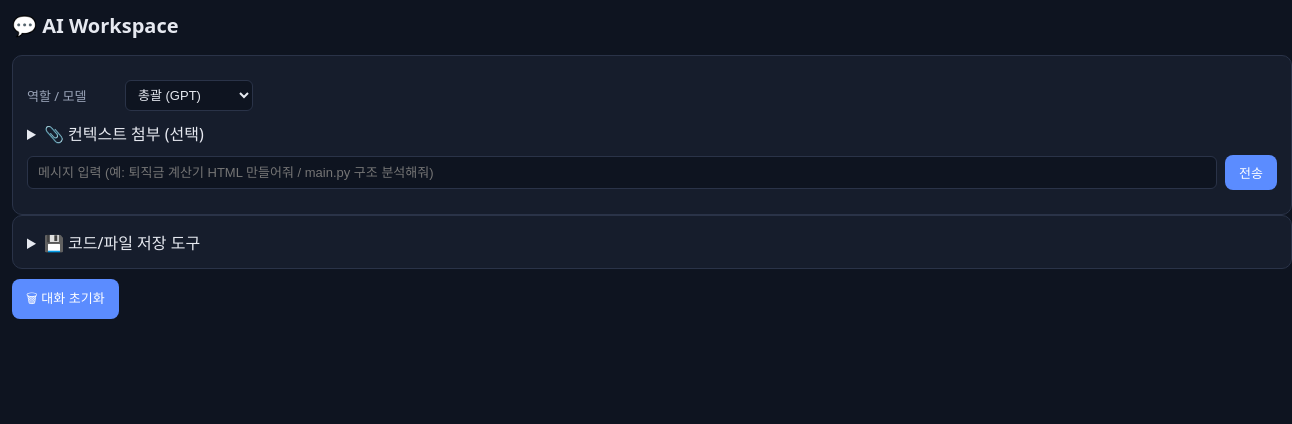
Test: AiWorkspace page › error is the fixed server message (no raw exception) and blocked attachment is reported
Check: the dropdown labelled "역할 / 모델" shows "총괄 (GPT)", box top-left (125, 80), bottom-right (253, 111)
Type "a" into the field labelled "메시지 입력". click: (622,172)
box: top-left (27, 156), bottom-right (1217, 189)
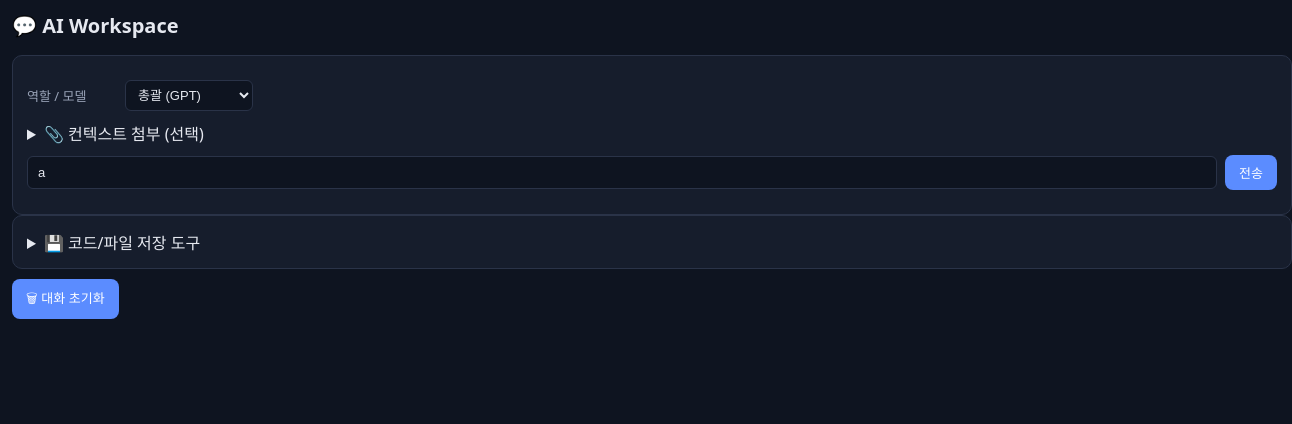
Click the button "전송". click: (1251,172)
box: top-left (1225, 155), bottom-right (1277, 190)
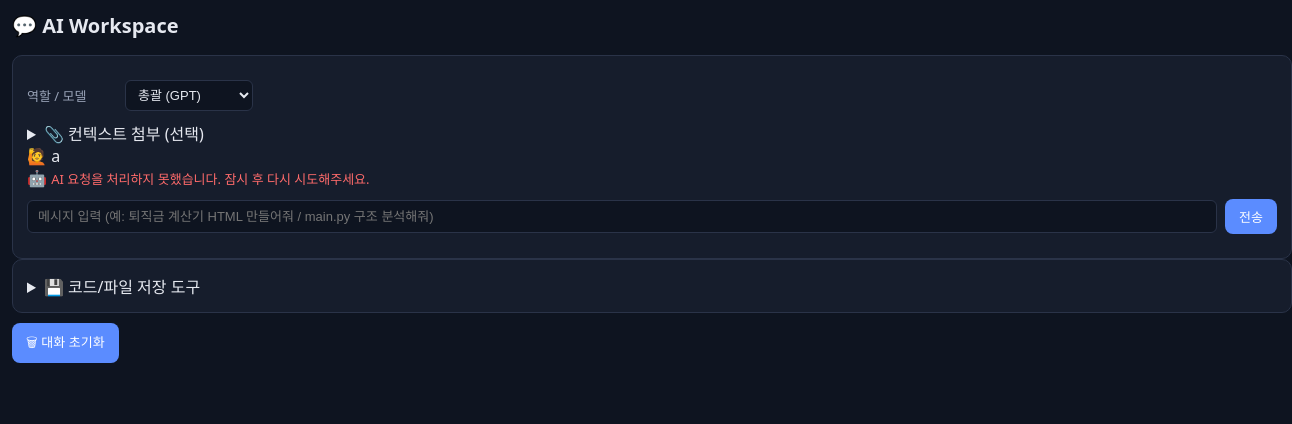
Check: the text "AI 요청을 처리하지 못했습니다. 잠시 후 다시 시도해주세요." is shown, box top-left (51, 170), bottom-right (370, 188)
Type "b" into the field labelled "메시지 입력". click: (622,216)
box: top-left (27, 200), bottom-right (1217, 233)
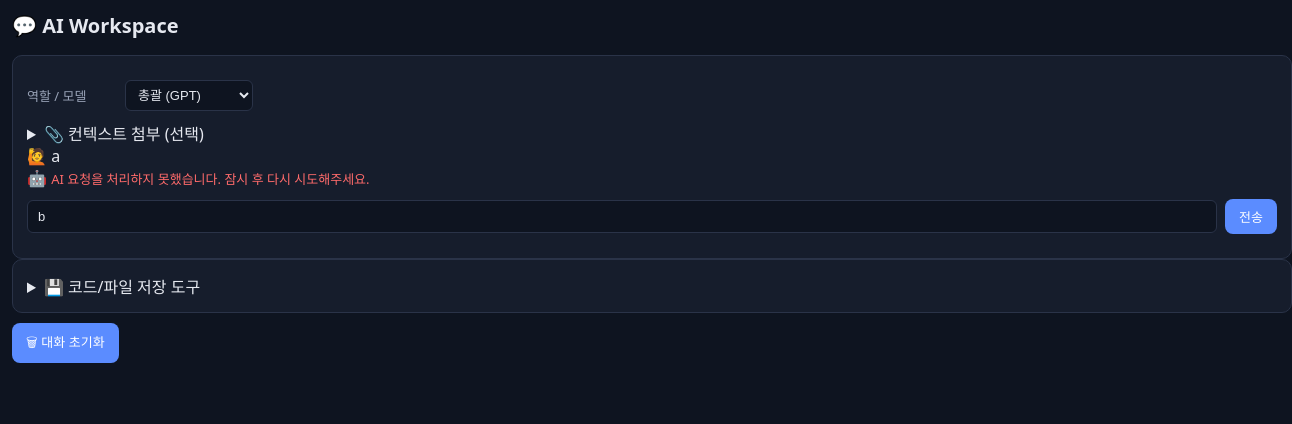
Click the button "전송". click: (1251,216)
box: top-left (1225, 199), bottom-right (1277, 234)
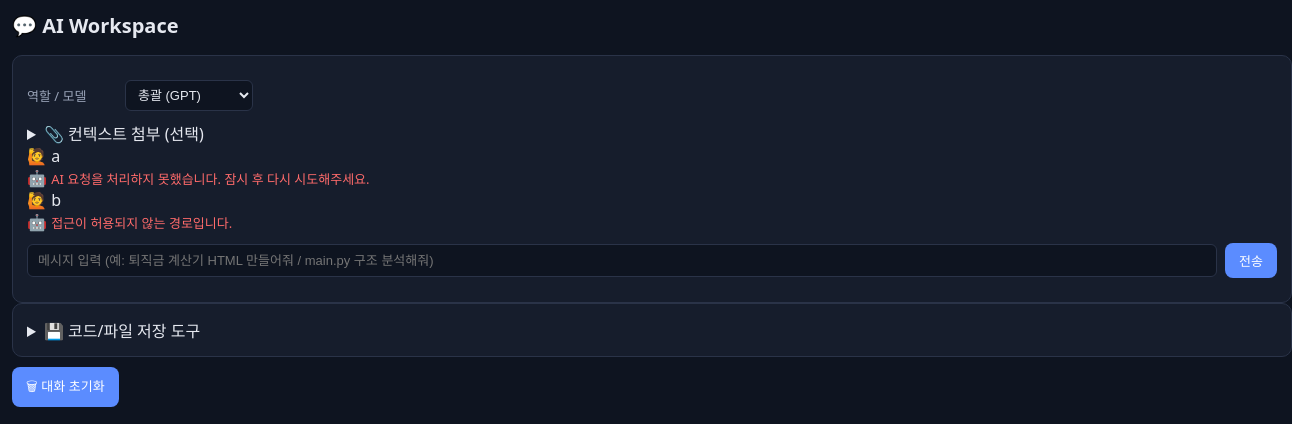
Check: the text "접근이 허용되지 않는 경로입니다." is shown, box top-left (51, 214), bottom-right (232, 232)
